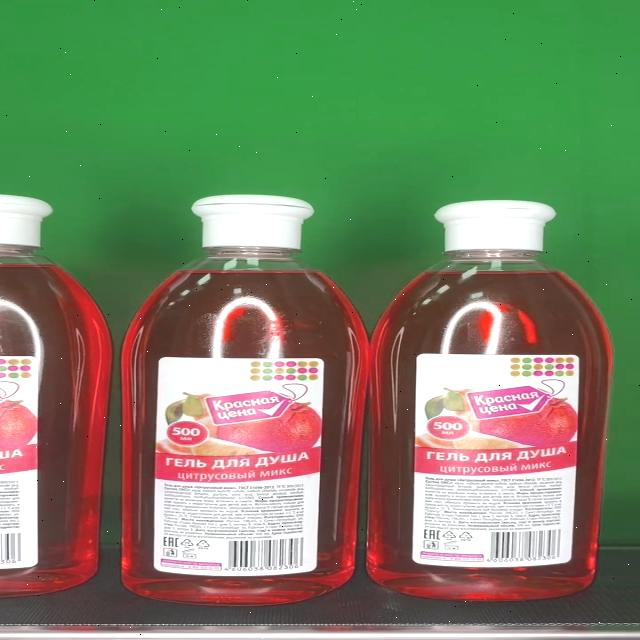Bottle: (122, 195, 371, 608), (366, 202, 611, 600)
Cap: (433, 201, 557, 254), (193, 196, 315, 249)
